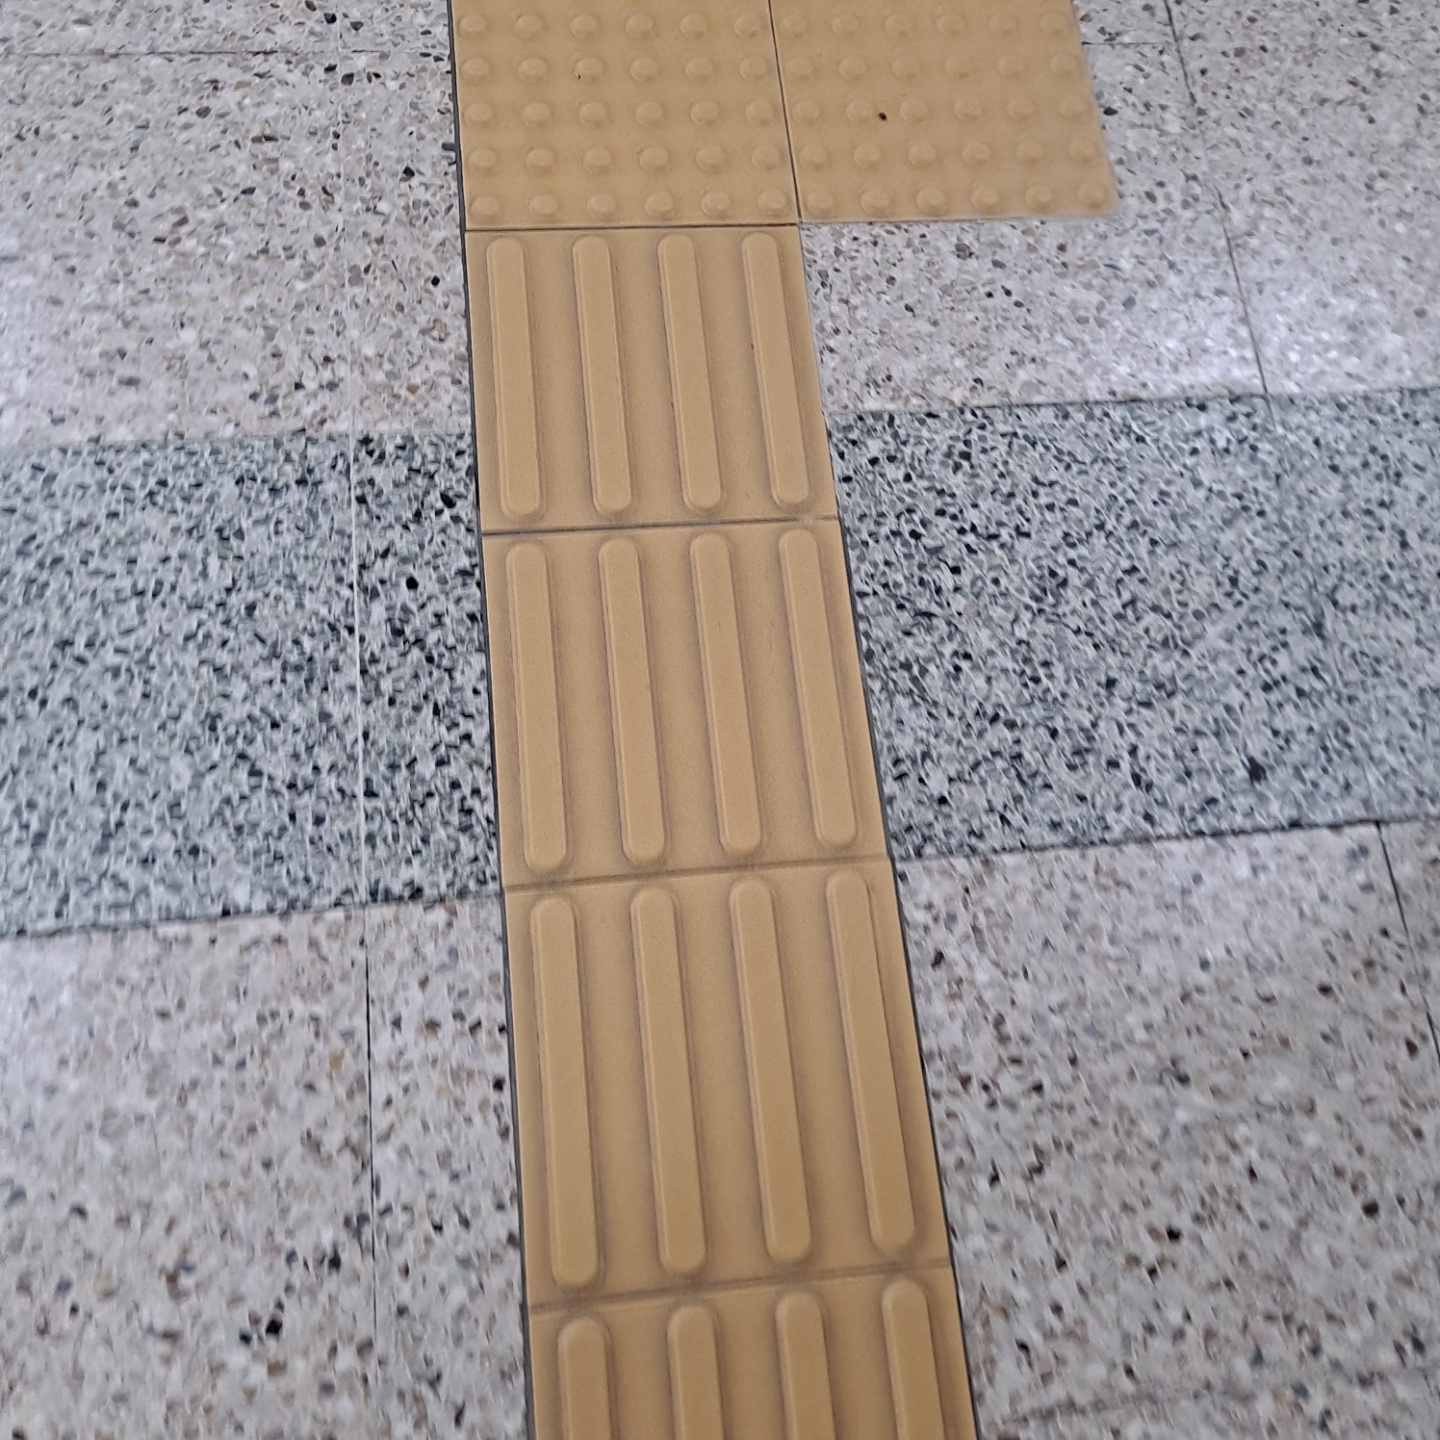guideBlock: (495, 893, 975, 1280), (504, 527, 903, 890), (484, 241, 829, 521), (537, 1284, 986, 1440)
warningBlock: (448, 13, 793, 216), (771, 5, 1095, 196)
